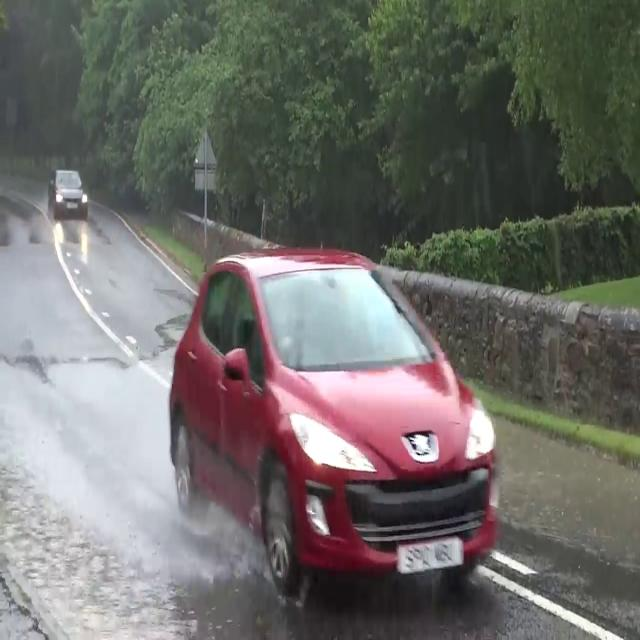license-plate-annotation: (393, 532, 467, 573)
